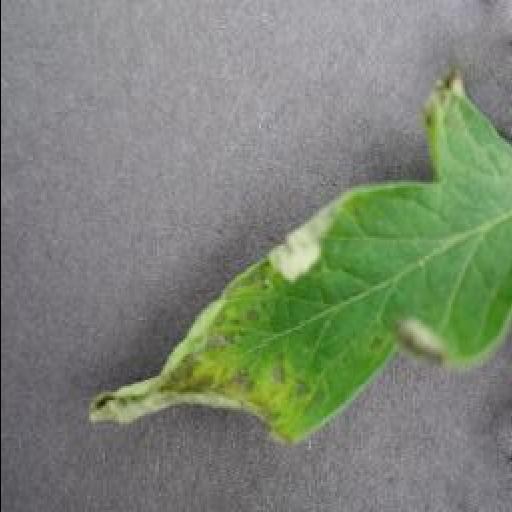disease_tomato: (84, 70, 512, 452)
